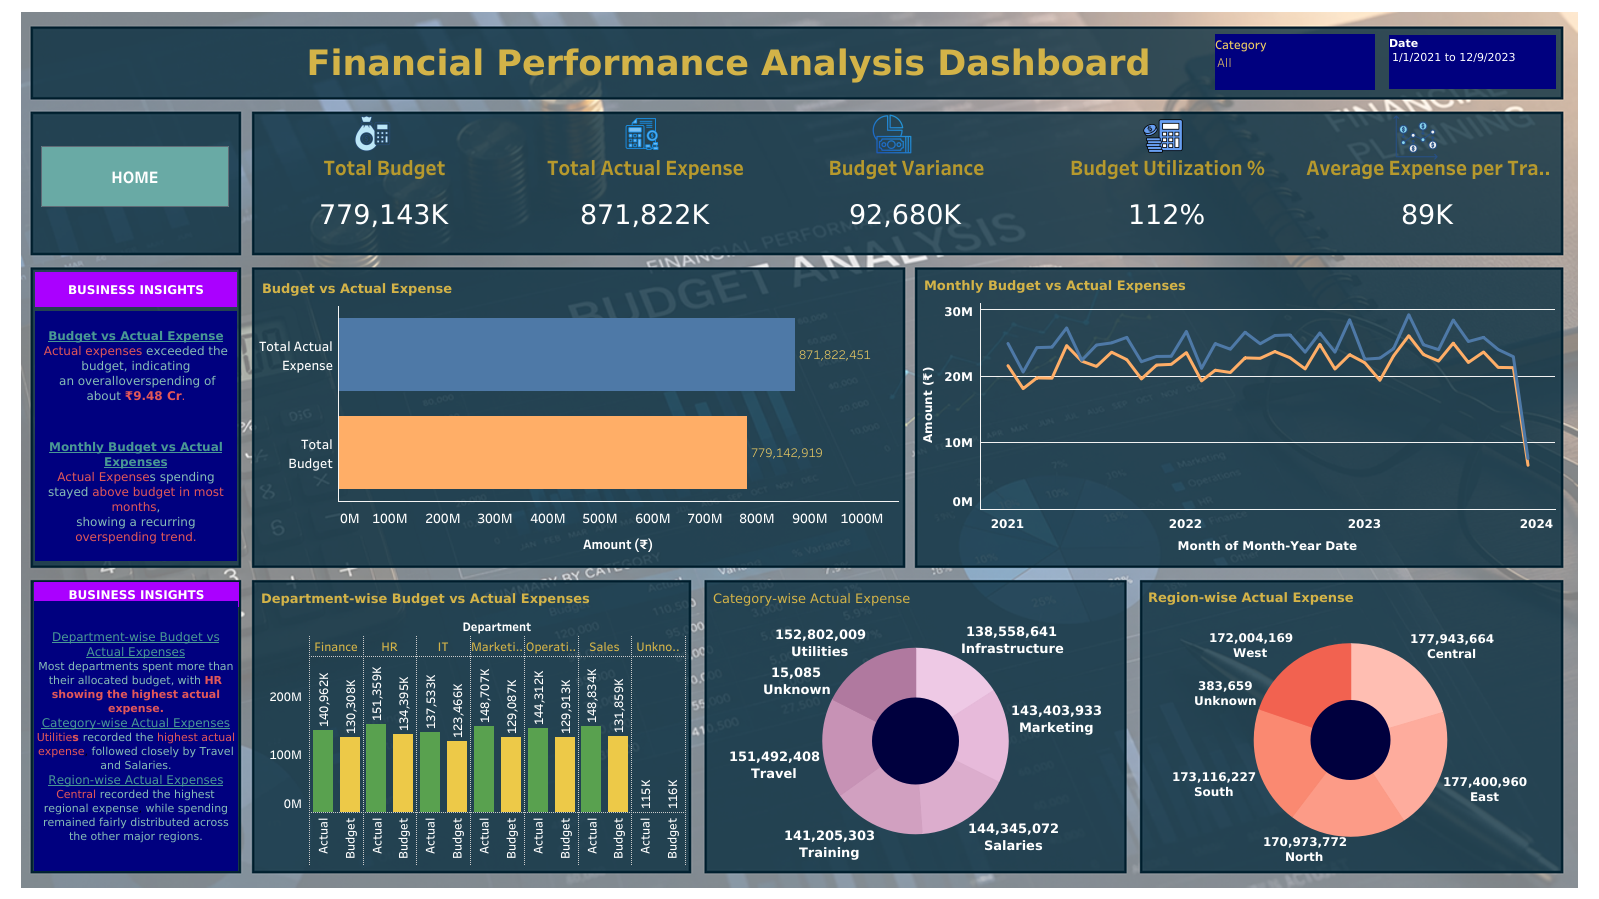

The dashboard page shown, as its layout file describes it:
{"tool":"tableau","page":{"name":"Dashboard 1","canvas":[1600,900],"ordinal":0},"visuals":[{"type":"image","param":"Image/Presentation1.png","box":[8,8,1584,884]},{"type":"text","box":[309,28,940,68]},{"type":"filter","title":"Budget vs Actual Expense","param":"[federated.0vcjdtp0bkgeri15qgudp1w66jfi].[none:Date:qk]","box":[1389,37,167,54]},{"type":"filter","title":"Budget vs Actual Expense","param":"[federated.0vcjdtp0bkgeri15qgudp1w66jfi].[none:Category:nk]","box":[1218,38,160,56]},{"type":"image","param":"Image/budget utilization.png","box":[1125,114,77,42]},{"type":"image","param":"Image/14432586.png","box":[343,117,60,37]},{"type":"image","param":"Image/Budget varieance.png","box":[864,117,56,40]},{"type":"image","param":"Image/average expenses per transation.png","box":[1384,118,68,47]},{"type":"image","param":"Image/Total ACTUal expenses.png","box":[619,120,46,34]},{"type":"worksheet","title":"KPI Summary","mark":"Automatic","box":[254,141,1305,108]},{"type":"dashboard-object","box":[38,152,188,61]},{"type":"text","box":[35,271,202,35]},{"type":"worksheet","title":"Monthly Budget vs Actual Expenses","mark":"Automatic","cols":["Month-Year Date"],"box":[922,274,635,289]},{"type":"worksheet","title":"Budget vs Actual Expense","mark":"Automatic","box":[259,276,642,286]},{"type":"text","box":[33,310,202,250]},{"type":"text","box":[32,582,205,25]},{"type":"worksheet","title":"Department-wise Budget vs Actual Expenses","mark":"Automatic","cols":["Department"],"box":[256,583,429,284]},{"type":"worksheet","title":"Region-wise Actual Expense","mark":"Pie","rows":["Calculation_0741660436721675","Calculation_0741660436758541"],"box":[1146,585,413,282]},{"type":"worksheet","title":"Category-wise Actual Expense","mark":"Pie","rows":["Calculation_0741660433207301","Calculation_0741660433719304"],"box":[710,586,413,282]},{"type":"text","box":[32,604,204,270]}]}

Visuals, with their boxes in screenshot pixels (x1, y1, x2, y2), scaled from the page's 1600x900 canvas onto the 1599x899 screenshot:
image: (x1=8, y1=8, x2=1591, y2=891)
text: (x1=309, y1=28, x2=1248, y2=96)
"Budget vs Actual Expense" filter: (x1=1388, y1=37, x2=1555, y2=91)
"Budget vs Actual Expense" filter: (x1=1217, y1=38, x2=1377, y2=94)
image: (x1=1124, y1=114, x2=1201, y2=156)
image: (x1=343, y1=117, x2=403, y2=154)
image: (x1=863, y1=117, x2=919, y2=157)
image: (x1=1383, y1=118, x2=1451, y2=165)
image: (x1=619, y1=120, x2=665, y2=154)
"KPI Summary" worksheet: (x1=254, y1=141, x2=1558, y2=249)
dashboard-object: (x1=38, y1=152, x2=226, y2=213)
text: (x1=35, y1=271, x2=237, y2=306)
"Monthly Budget vs Actual Expenses" worksheet: (x1=921, y1=274, x2=1556, y2=562)
"Budget vs Actual Expense" worksheet: (x1=259, y1=276, x2=900, y2=561)
text: (x1=33, y1=310, x2=235, y2=559)
text: (x1=32, y1=581, x2=237, y2=606)
"Department-wise Budget vs Actual Expenses" worksheet: (x1=256, y1=582, x2=685, y2=866)
"Region-wise Actual Expense" worksheet (Pie marks): (x1=1145, y1=584, x2=1558, y2=866)
"Category-wise Actual Expense" worksheet (Pie marks): (x1=710, y1=585, x2=1122, y2=867)
text: (x1=32, y1=603, x2=236, y2=873)
